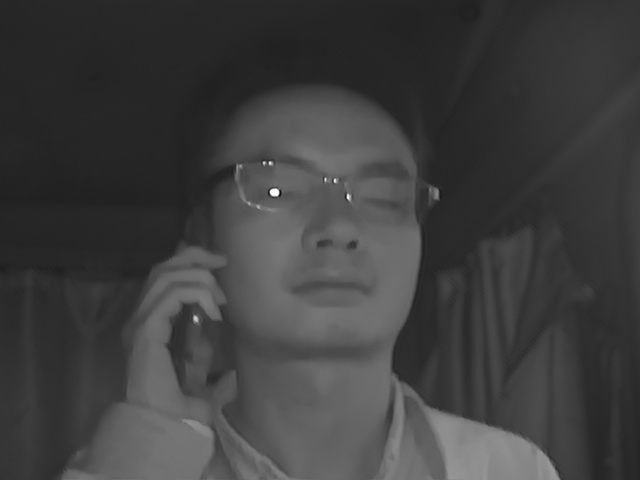hand: (114, 245, 231, 425)
